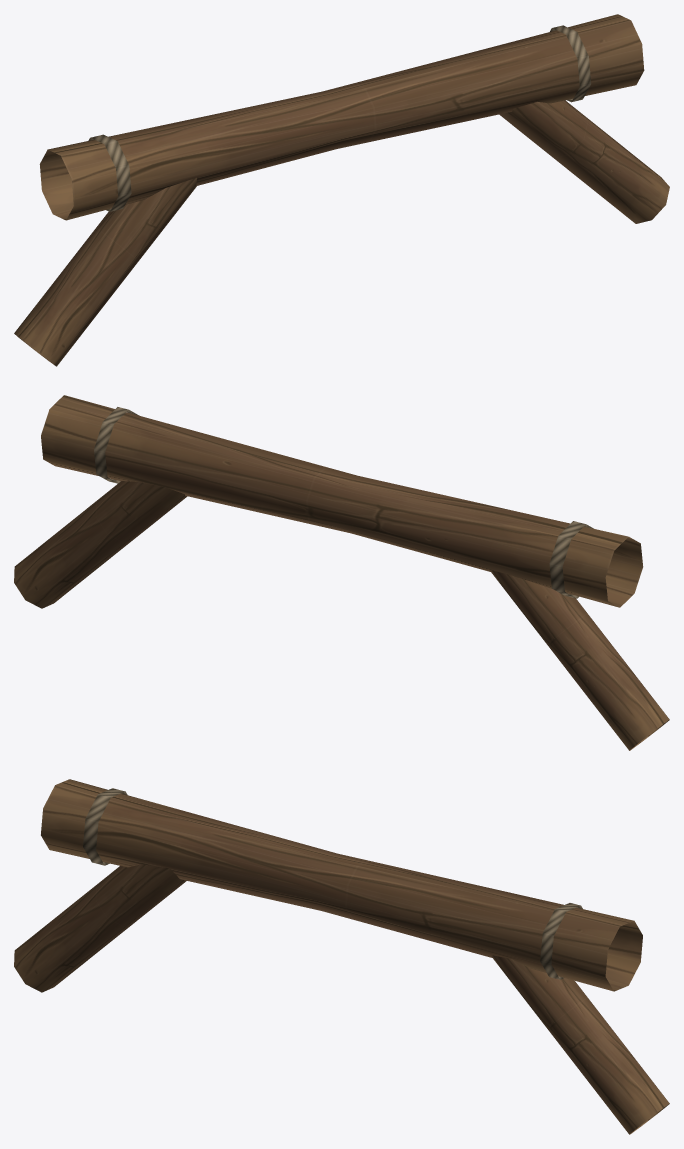
The model's file is Wood_el_01.fbx.
3 views of the same model, one above another, from view 1: azimuth 30°, elevation 25°; view 2: azimuth 150°, elevation 25°; view 3: azimuth 330°, elevation 25° (orthographic).
Parts seen in each view (by area): view 1: polySurface1757; view 2: polySurface1757; view 3: polySurface1757.
Part boxes in pixels (<box>): polySurface1757: <box>14,14,669,366</box>; polySurface1757: <box>14,395,669,750</box>; polySurface1757: <box>14,779,669,1134</box>.
Size of the model in its own units: 238 by 73.52 by 25.89.
1 material, 1 textured.
